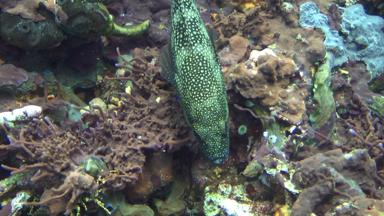Serranidae -Groupers-: (166, 0, 231, 165)
